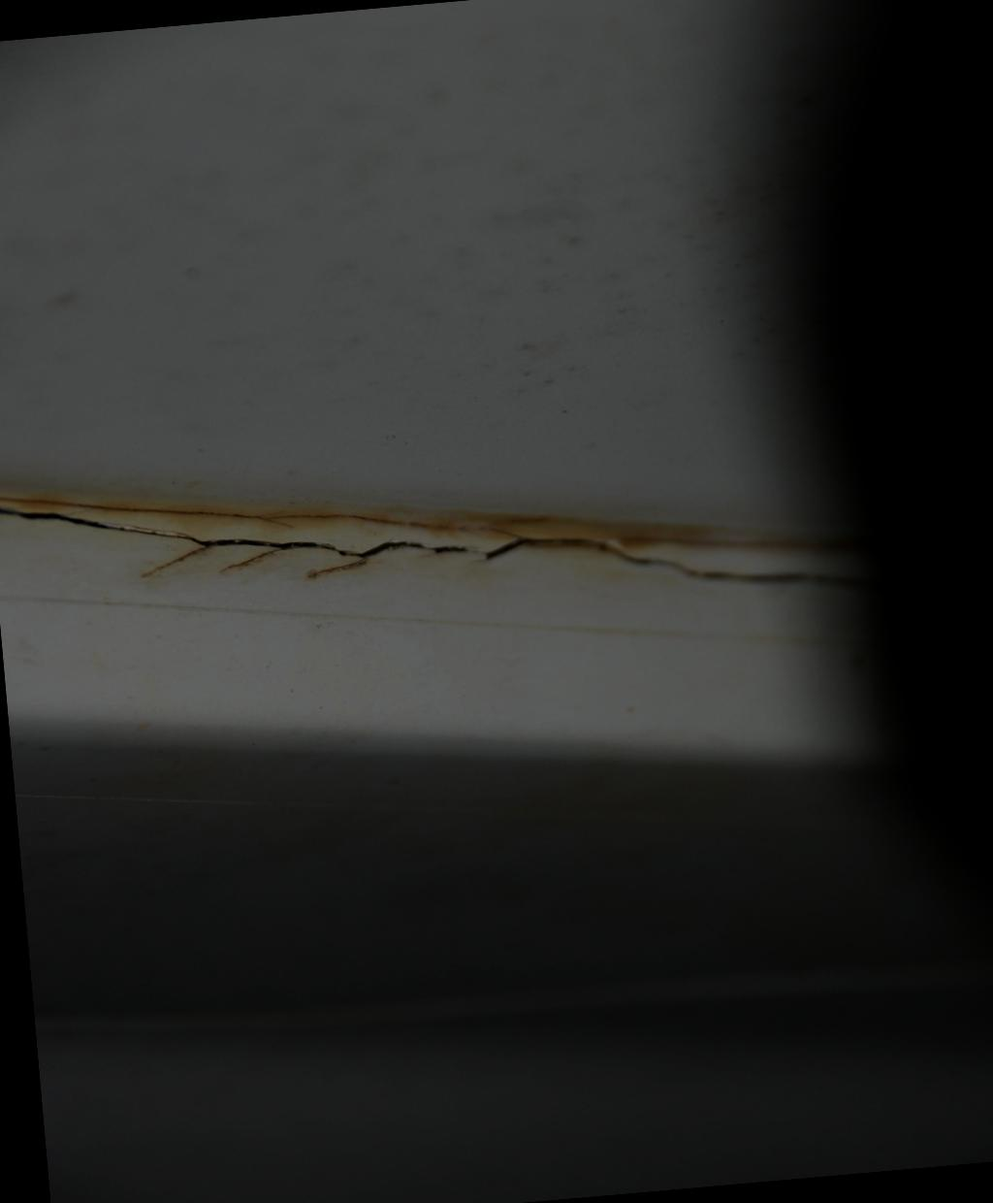crack: (0, 406, 876, 671)
